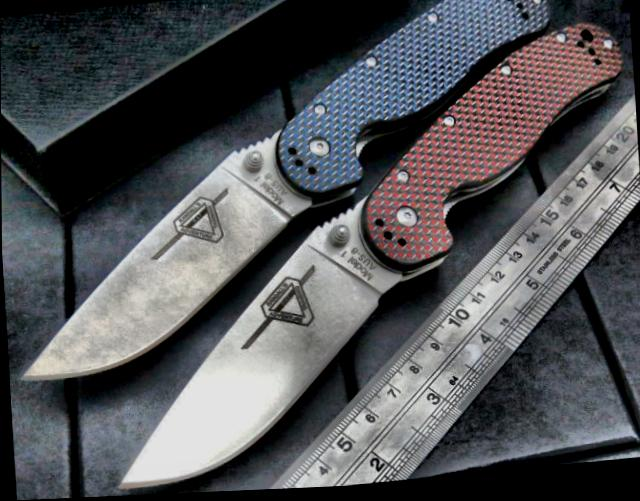knife: (5, 119, 322, 385), (95, 226, 395, 495)
